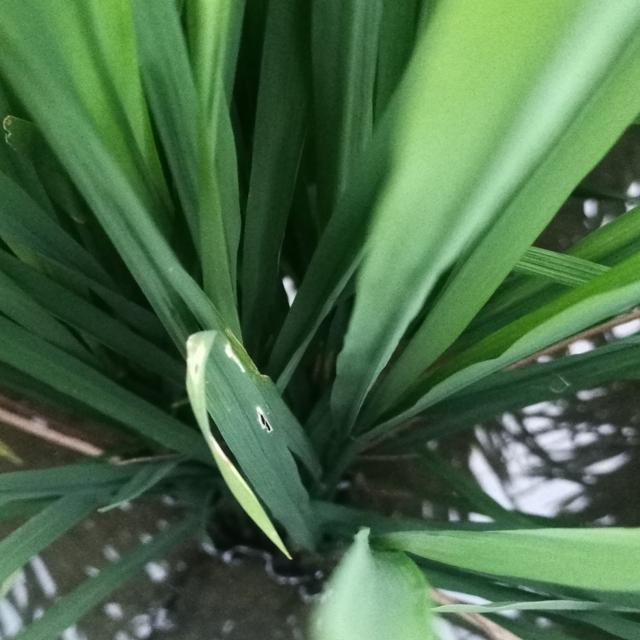brown plant hopper: (179, 320, 297, 569)
